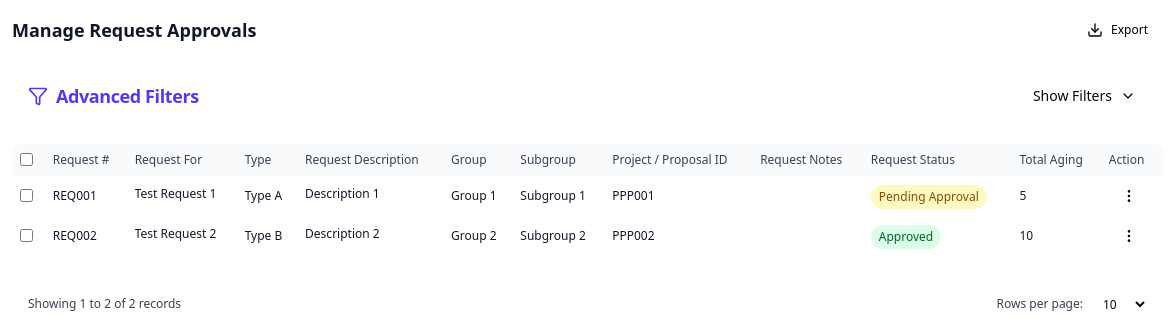
Scenario: ApprovalsContent › Selection › should handle select all checkbox
The width and height of the screenshot is (1176, 328).
Click the checkbox next to "Request #" at (26, 160), box x1=20 y1=153 x2=33 y2=166
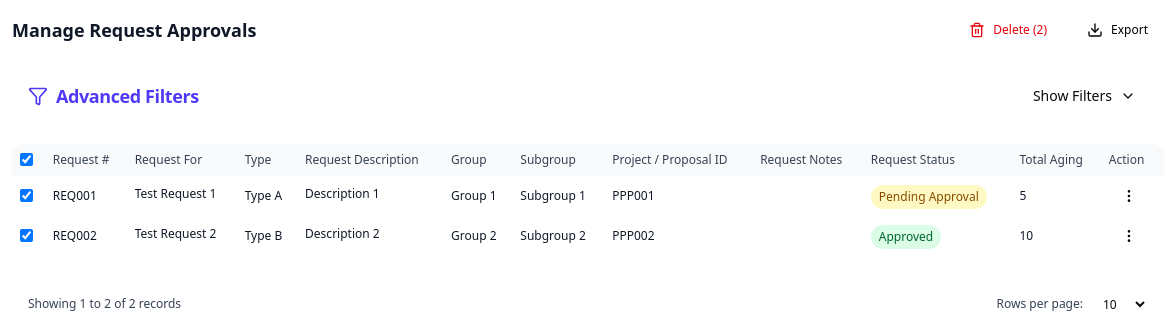
Check: the button "Delete (2)" is shown, box x1=953 y1=12 x2=1063 y2=48
